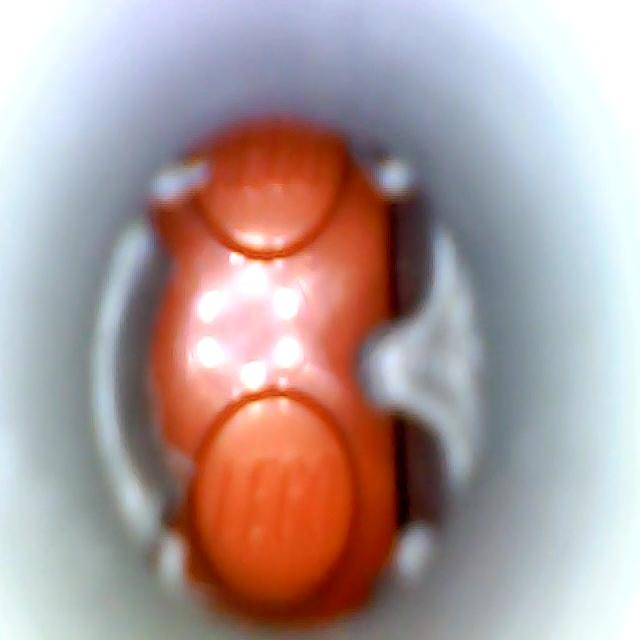studs: (194, 391, 355, 604), (194, 123, 356, 259)
